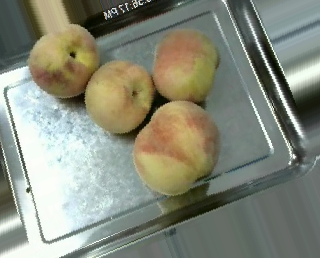Peach: (134, 100, 219, 195), (27, 23, 100, 98), (84, 59, 154, 134), (152, 27, 219, 102)
